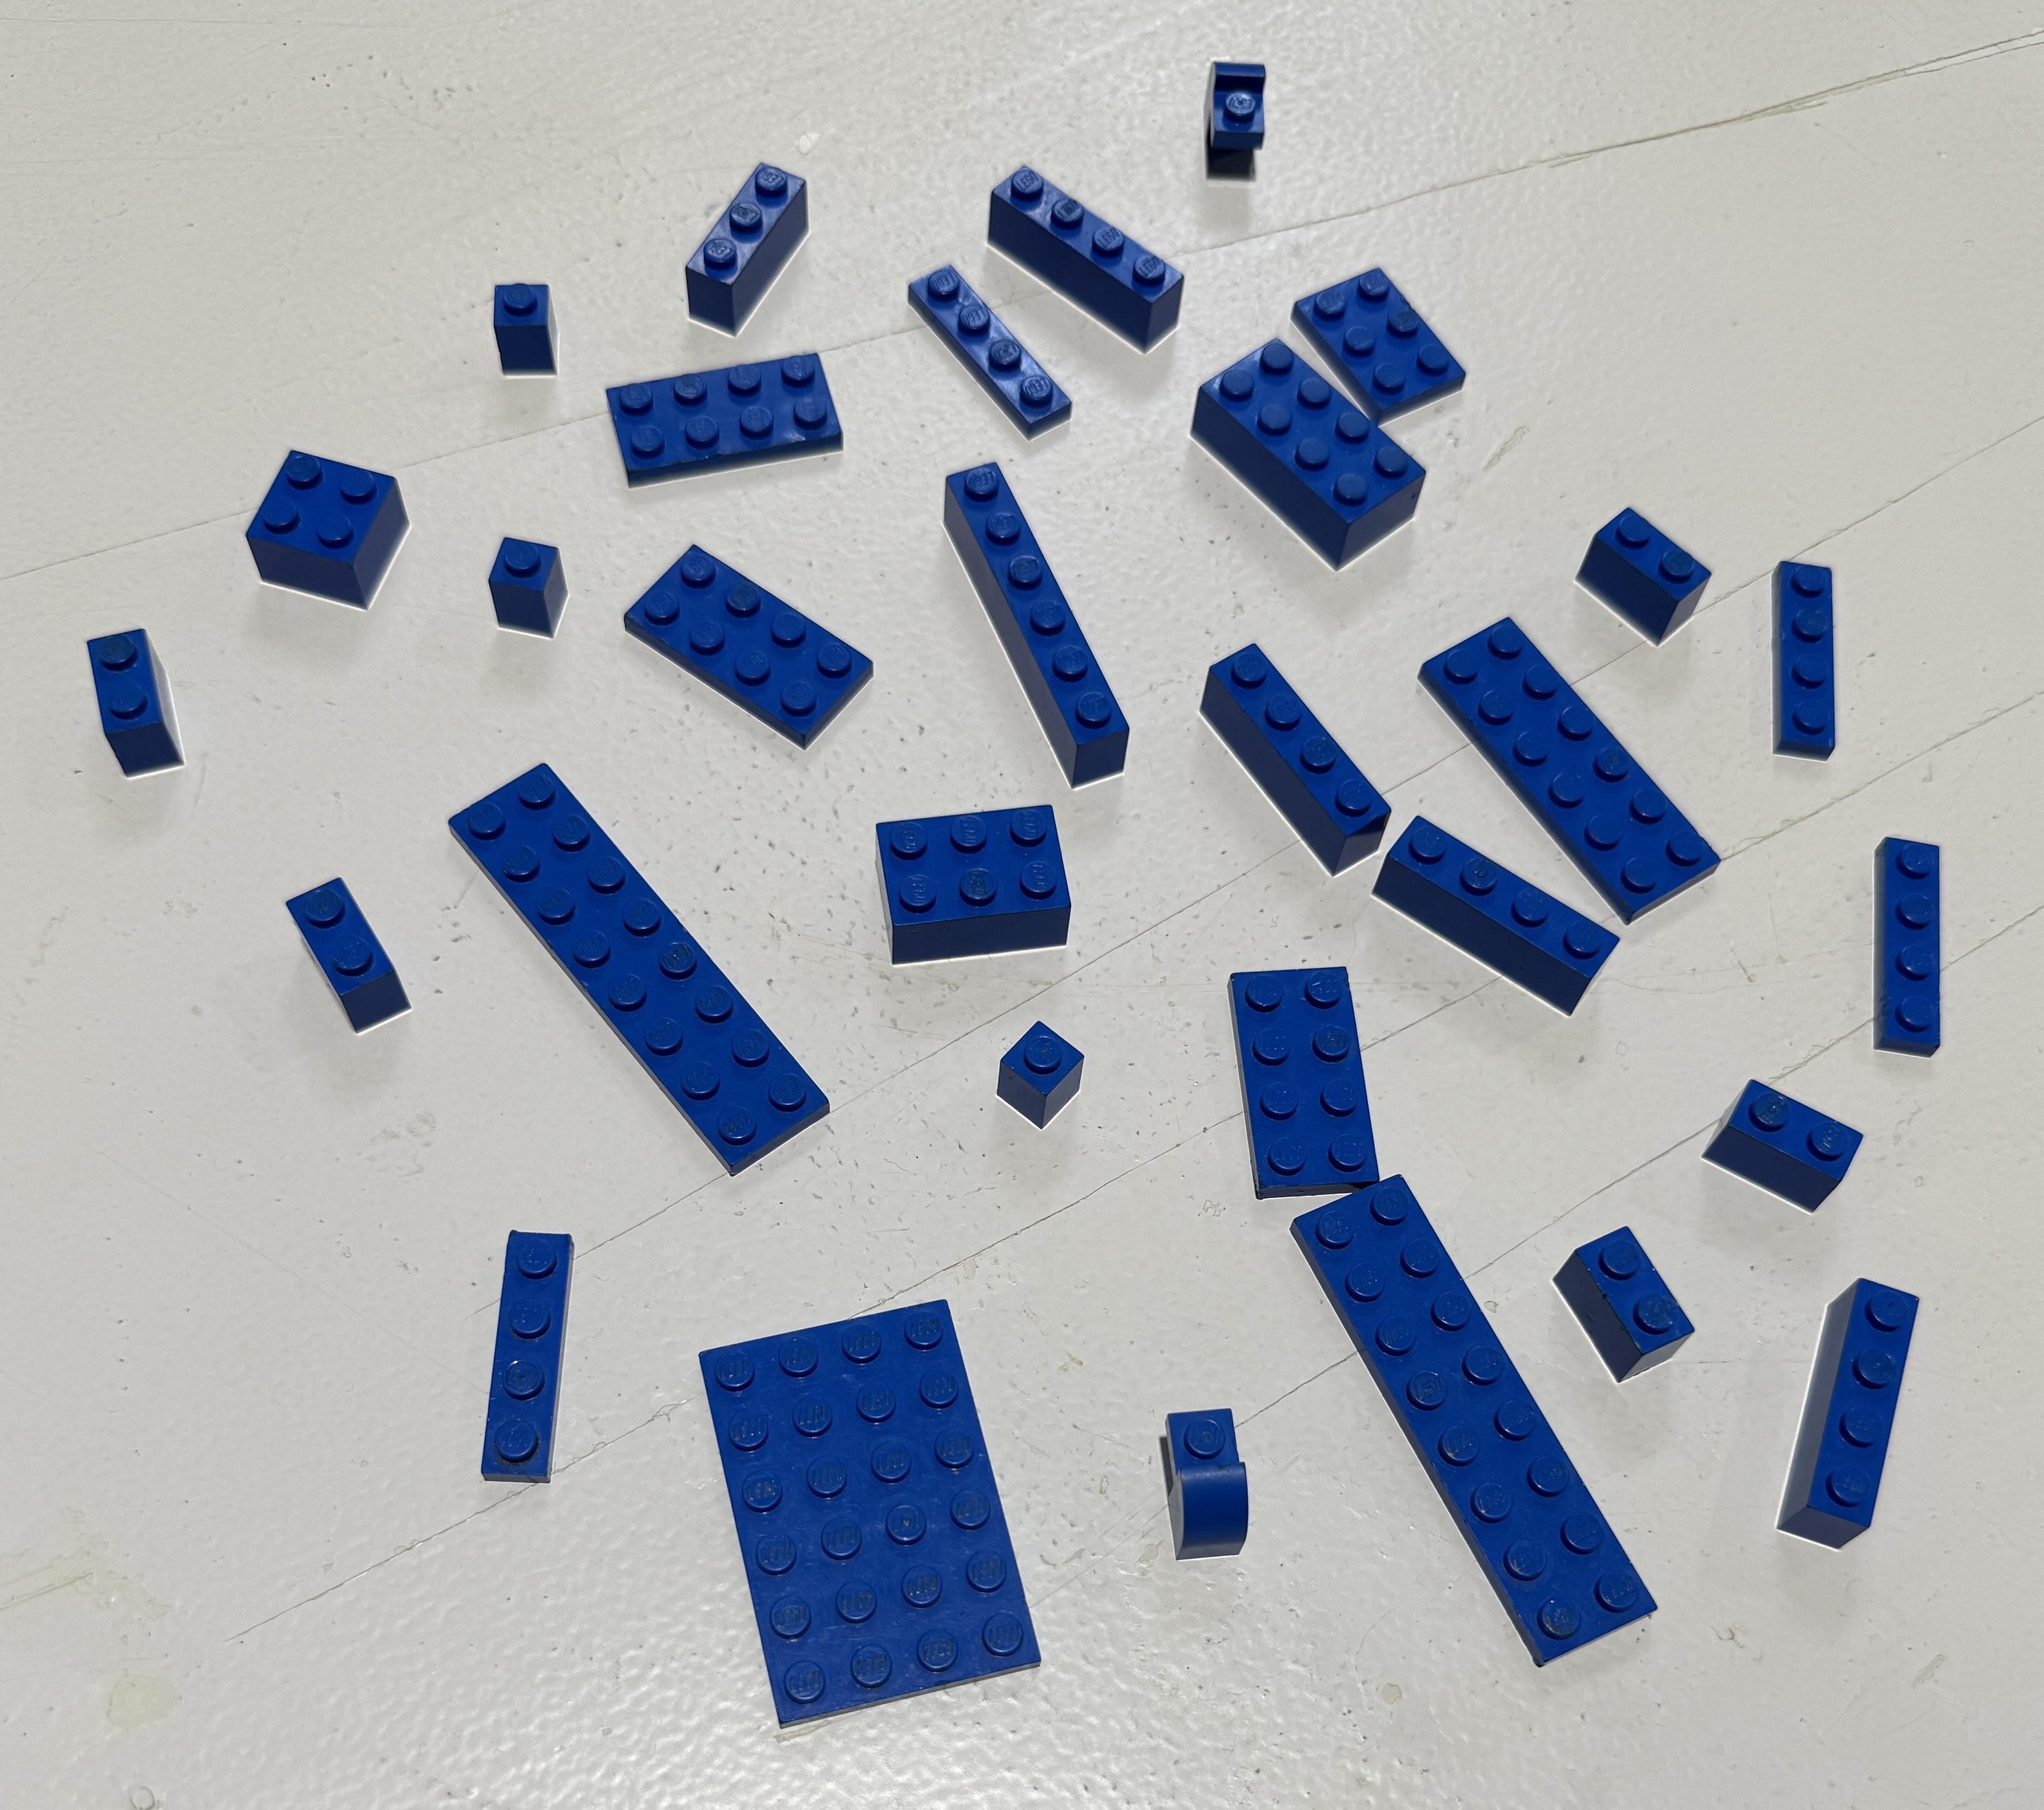brick_1x1: (454, 253, 589, 409), (479, 515, 613, 653), (987, 1019, 1115, 1134)
brick_1x2: (1544, 1188, 1705, 1417), (262, 847, 438, 1052), (1691, 1045, 1876, 1230), (1558, 456, 1721, 666), (63, 589, 201, 800)
brick_1x3: (641, 126, 839, 351)
brick_1x4: (1184, 624, 1417, 907), (1361, 797, 1630, 1022), (966, 133, 1195, 363), (1766, 1256, 1934, 1571)
brick_2x2: (187, 433, 435, 631)
brick_2x3: (842, 774, 1101, 1005)
brick_2x4: (1174, 318, 1450, 580)
